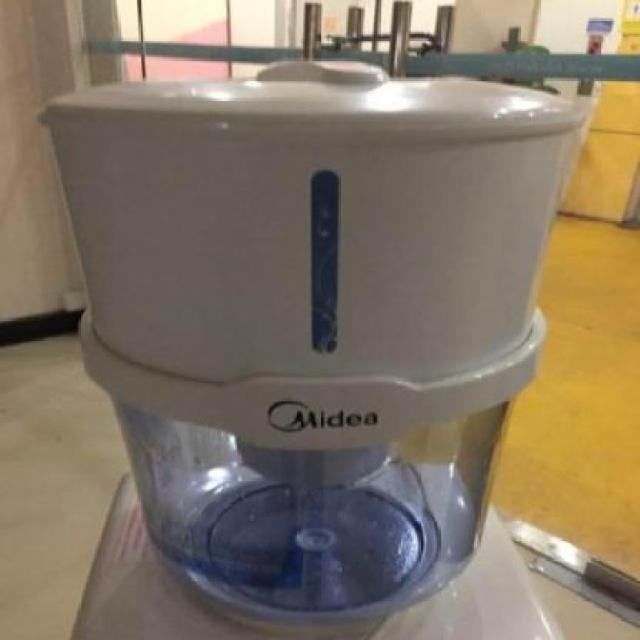coolerbottle: (37, 56, 605, 628)
